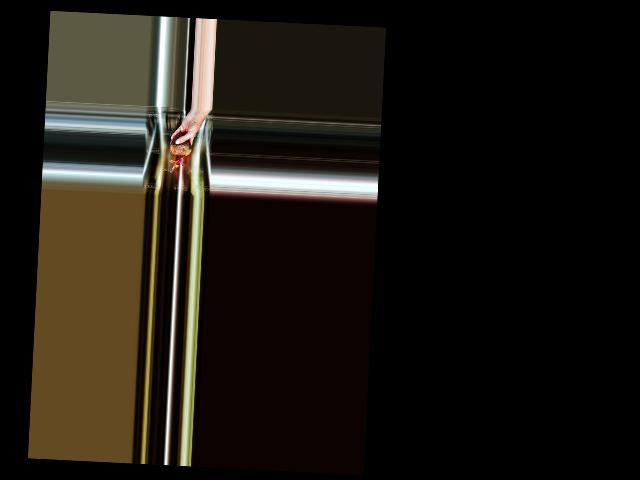beet: (168, 131, 191, 173)
